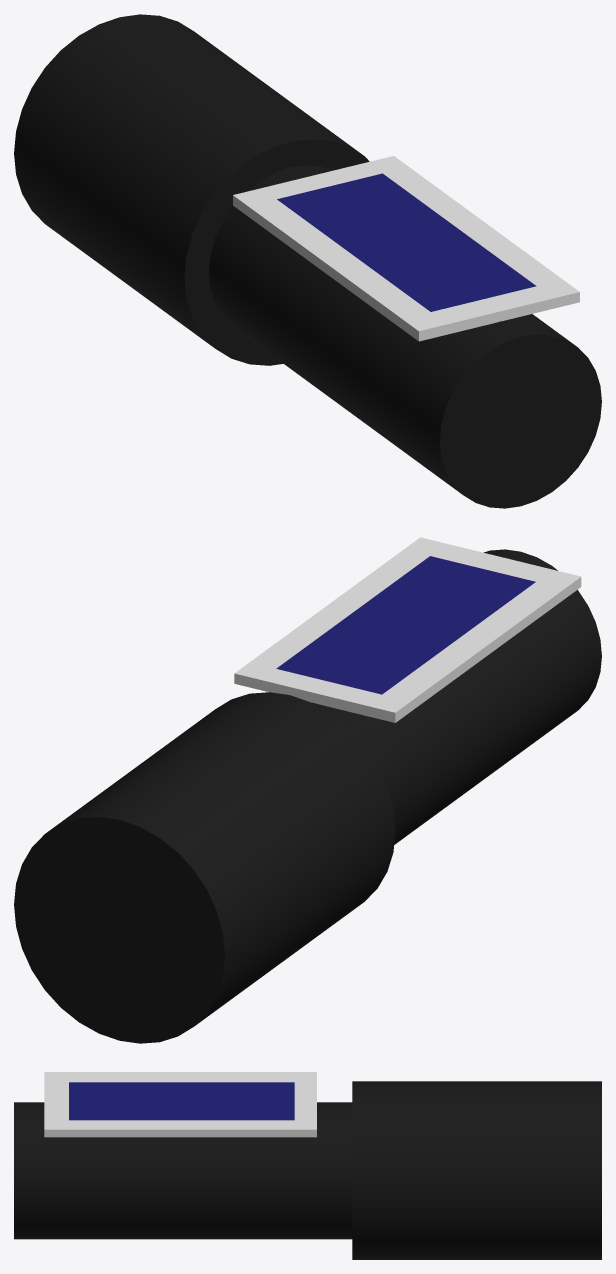
The model's file is Flashlight.fbx.
The picture shows the model from 3 angles, top to bottom: view 1: azimuth 30°, elevation 25°; view 2: azimuth 150°, elevation 25°; view 3: azimuth 270°, elevation 25°; orthographic projection. The views are drawn at different scales.
Parts seen in each view (by area): view 1: Cylinder.002, Cylinder.001, Cube, Cube.001; view 2: Cylinder.002, Cylinder.001, Cube, Cube.001; view 3: Cylinder.002, Cylinder.001, Cube, Cube.001.
Boxes of the visible parts, x1,y1,x2,y2 form: Cylinder.002: [14, 14, 369, 365]; Cylinder.001: [209, 165, 601, 508]; Cube: [233, 156, 579, 341]; Cube.001: [277, 173, 536, 311]; Cylinder.002: [14, 692, 395, 1043]; Cylinder.001: [312, 549, 601, 844]; Cube: [234, 537, 581, 722]; Cube.001: [276, 556, 535, 694]; Cylinder.002: [352, 1081, 601, 1259]; Cylinder.001: [14, 1102, 352, 1239]; Cube: [44, 1072, 316, 1137]; Cube.001: [69, 1082, 294, 1120].
Size of the model in its own units: 4 by 4 by 13.17.
